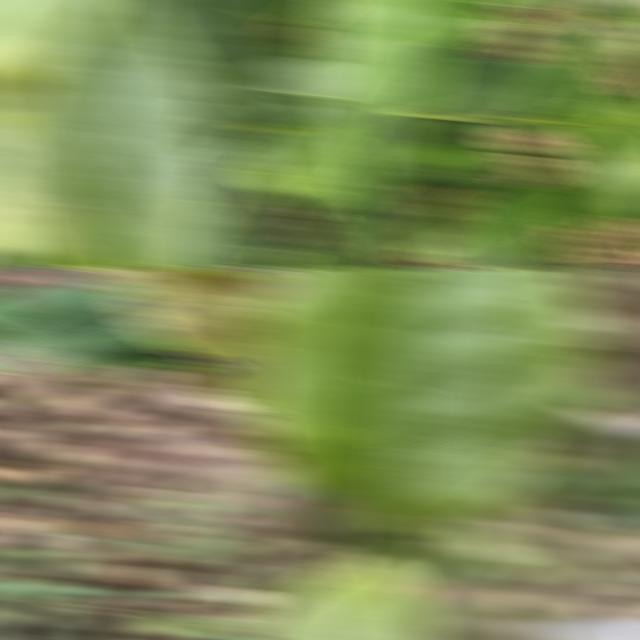Leaf: (244, 267, 602, 536), (0, 0, 230, 269), (314, 0, 462, 204), (87, 267, 268, 414), (244, 551, 436, 640), (150, 0, 268, 135), (0, 290, 170, 378), (415, 183, 570, 268), (252, 114, 370, 193), (538, 126, 619, 232), (0, 0, 106, 77), (0, 270, 133, 330), (410, 60, 547, 118), (244, 57, 349, 127), (348, 164, 422, 262), (72, 341, 204, 392), (571, 124, 640, 217), (299, 204, 379, 269), (430, 0, 526, 49), (428, 122, 497, 178), (457, 138, 530, 190), (381, 138, 452, 179), (264, 26, 335, 64), (290, 4, 341, 50), (244, 130, 317, 162), (516, 237, 585, 269), (568, 87, 622, 126), (599, 95, 640, 131), (591, 0, 640, 22), (552, 0, 606, 19), (281, 0, 334, 19), (472, 119, 531, 134), (415, 118, 472, 132)
